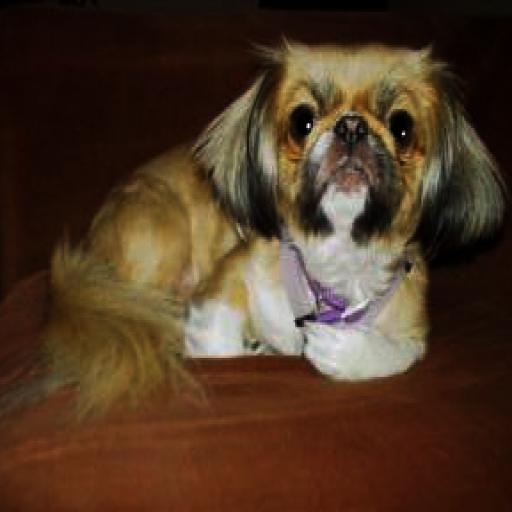dog_face: (240, 38, 469, 239)
